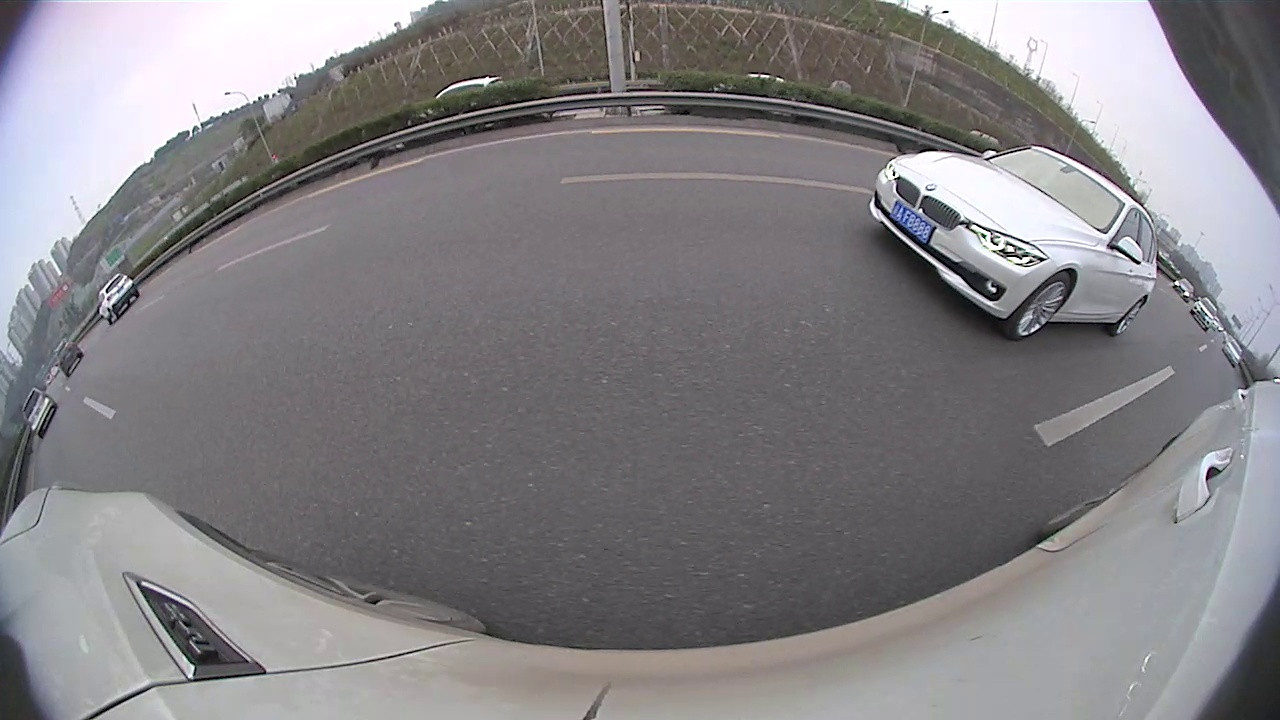car: (878, 168, 1278, 474), (345, 147, 526, 252), (605, 141, 695, 210), (824, 171, 894, 205), (697, 154, 756, 193), (563, 159, 604, 185), (758, 167, 800, 190)
front: (892, 217, 939, 280), (512, 187, 522, 217)
rear: (1142, 364, 1232, 478), (457, 199, 477, 238)
